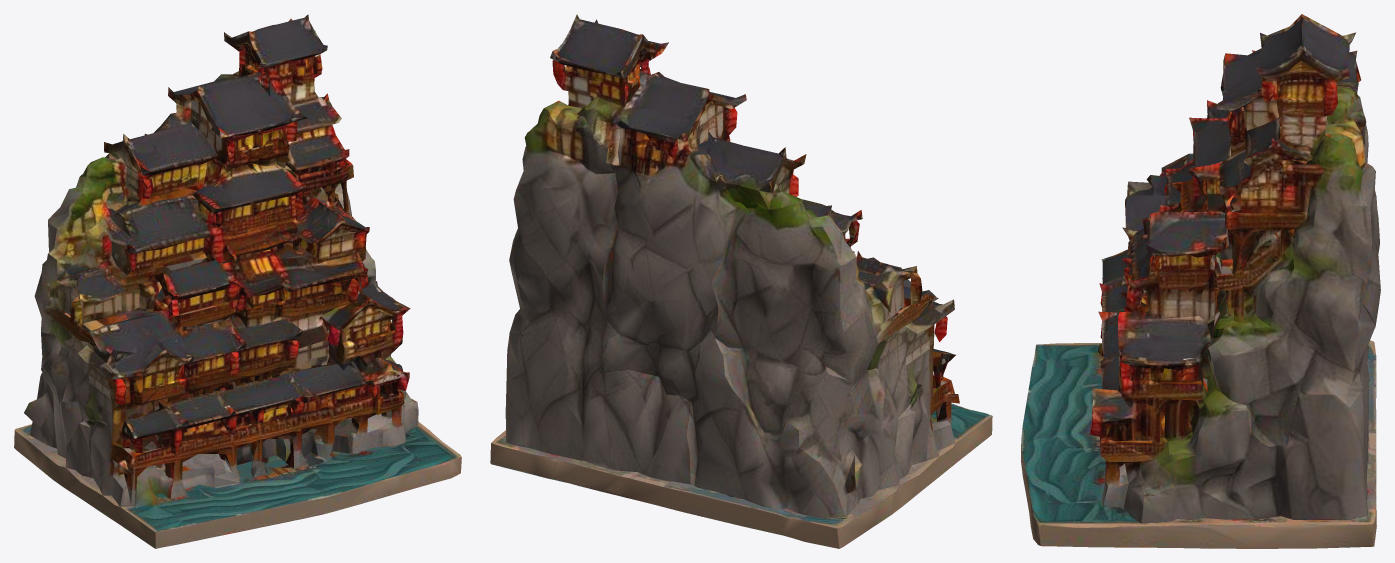
Rendered from hongyadong.glb.
3 views of the same model, side by side, from view 1: azimuth 30°, elevation 25°; view 2: azimuth 150°, elevation 25°; view 3: azimuth 270°, elevation 25° (orthographic). The views are drawn at different scales.
Parts seen in each view (by area): view 1: logan-textured.obj; view 2: logan-textured.obj; view 3: logan-textured.obj.
Boxes of the visible parts, bbox=[...] form: logan-textured.obj: bbox=[14, 14, 461, 548]; logan-textured.obj: bbox=[490, 14, 992, 548]; logan-textured.obj: bbox=[1021, 14, 1380, 548].
Size of the model in its own units: 0.8618 by 1 by 0.6872.
Materials: 1 (1 with a texture image).
